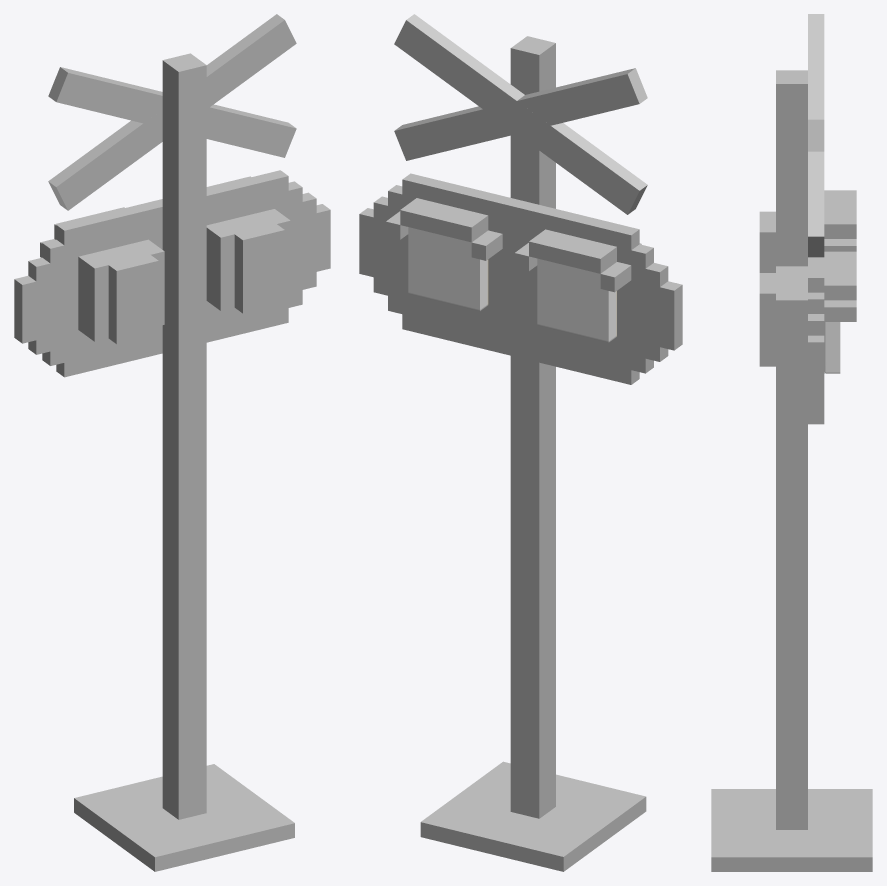
The model's file is polish_signal_with_cross_1.obj.
The picture shows the model from 3 angles, left to right: view 1: azimuth 30°, elevation 25°; view 2: azimuth 150°, elevation 25°; view 3: azimuth 270°, elevation 25°; orthographic projection. The views are drawn at different scales.
Visible parts, largest first — view 1: pole, cube, shield, base, light chamber left, light chamber right; view 2: cube, pole, shield, base, light right, light left, top cover right, top cover left; view 3: pole, base, cube, light chamber right, top cover right, top cover left, light right, shield.
Part boxes in pixels (x1,y1,x2,y2): pole: (162,53,206,819); cube: (14,14,330,365); shield: (56,170,288,377); base: (74,764,294,871); light chamber left: (78,239,164,341); light chamber right: (206,209,290,310); cube: (359,14,682,373); pole: (510,36,555,818); shield: (402,173,639,384); base: (420,761,646,871); light right: (408,227,488,311); light left: (537,258,616,342); top cover right: (400,198,488,242); top cover left: (529,229,616,273); pole: (776,70,807,829); base: (711,789,872,871); cube: (759,14,856,416); light chamber right: (776,266,807,373); top cover right: (824,251,856,300); top cover left: (824,190,856,238); light right: (824,322,840,373); shield: (808,257,824,424).
Size of the model in its own units: 1.38 by 3.29 by 0.625.
